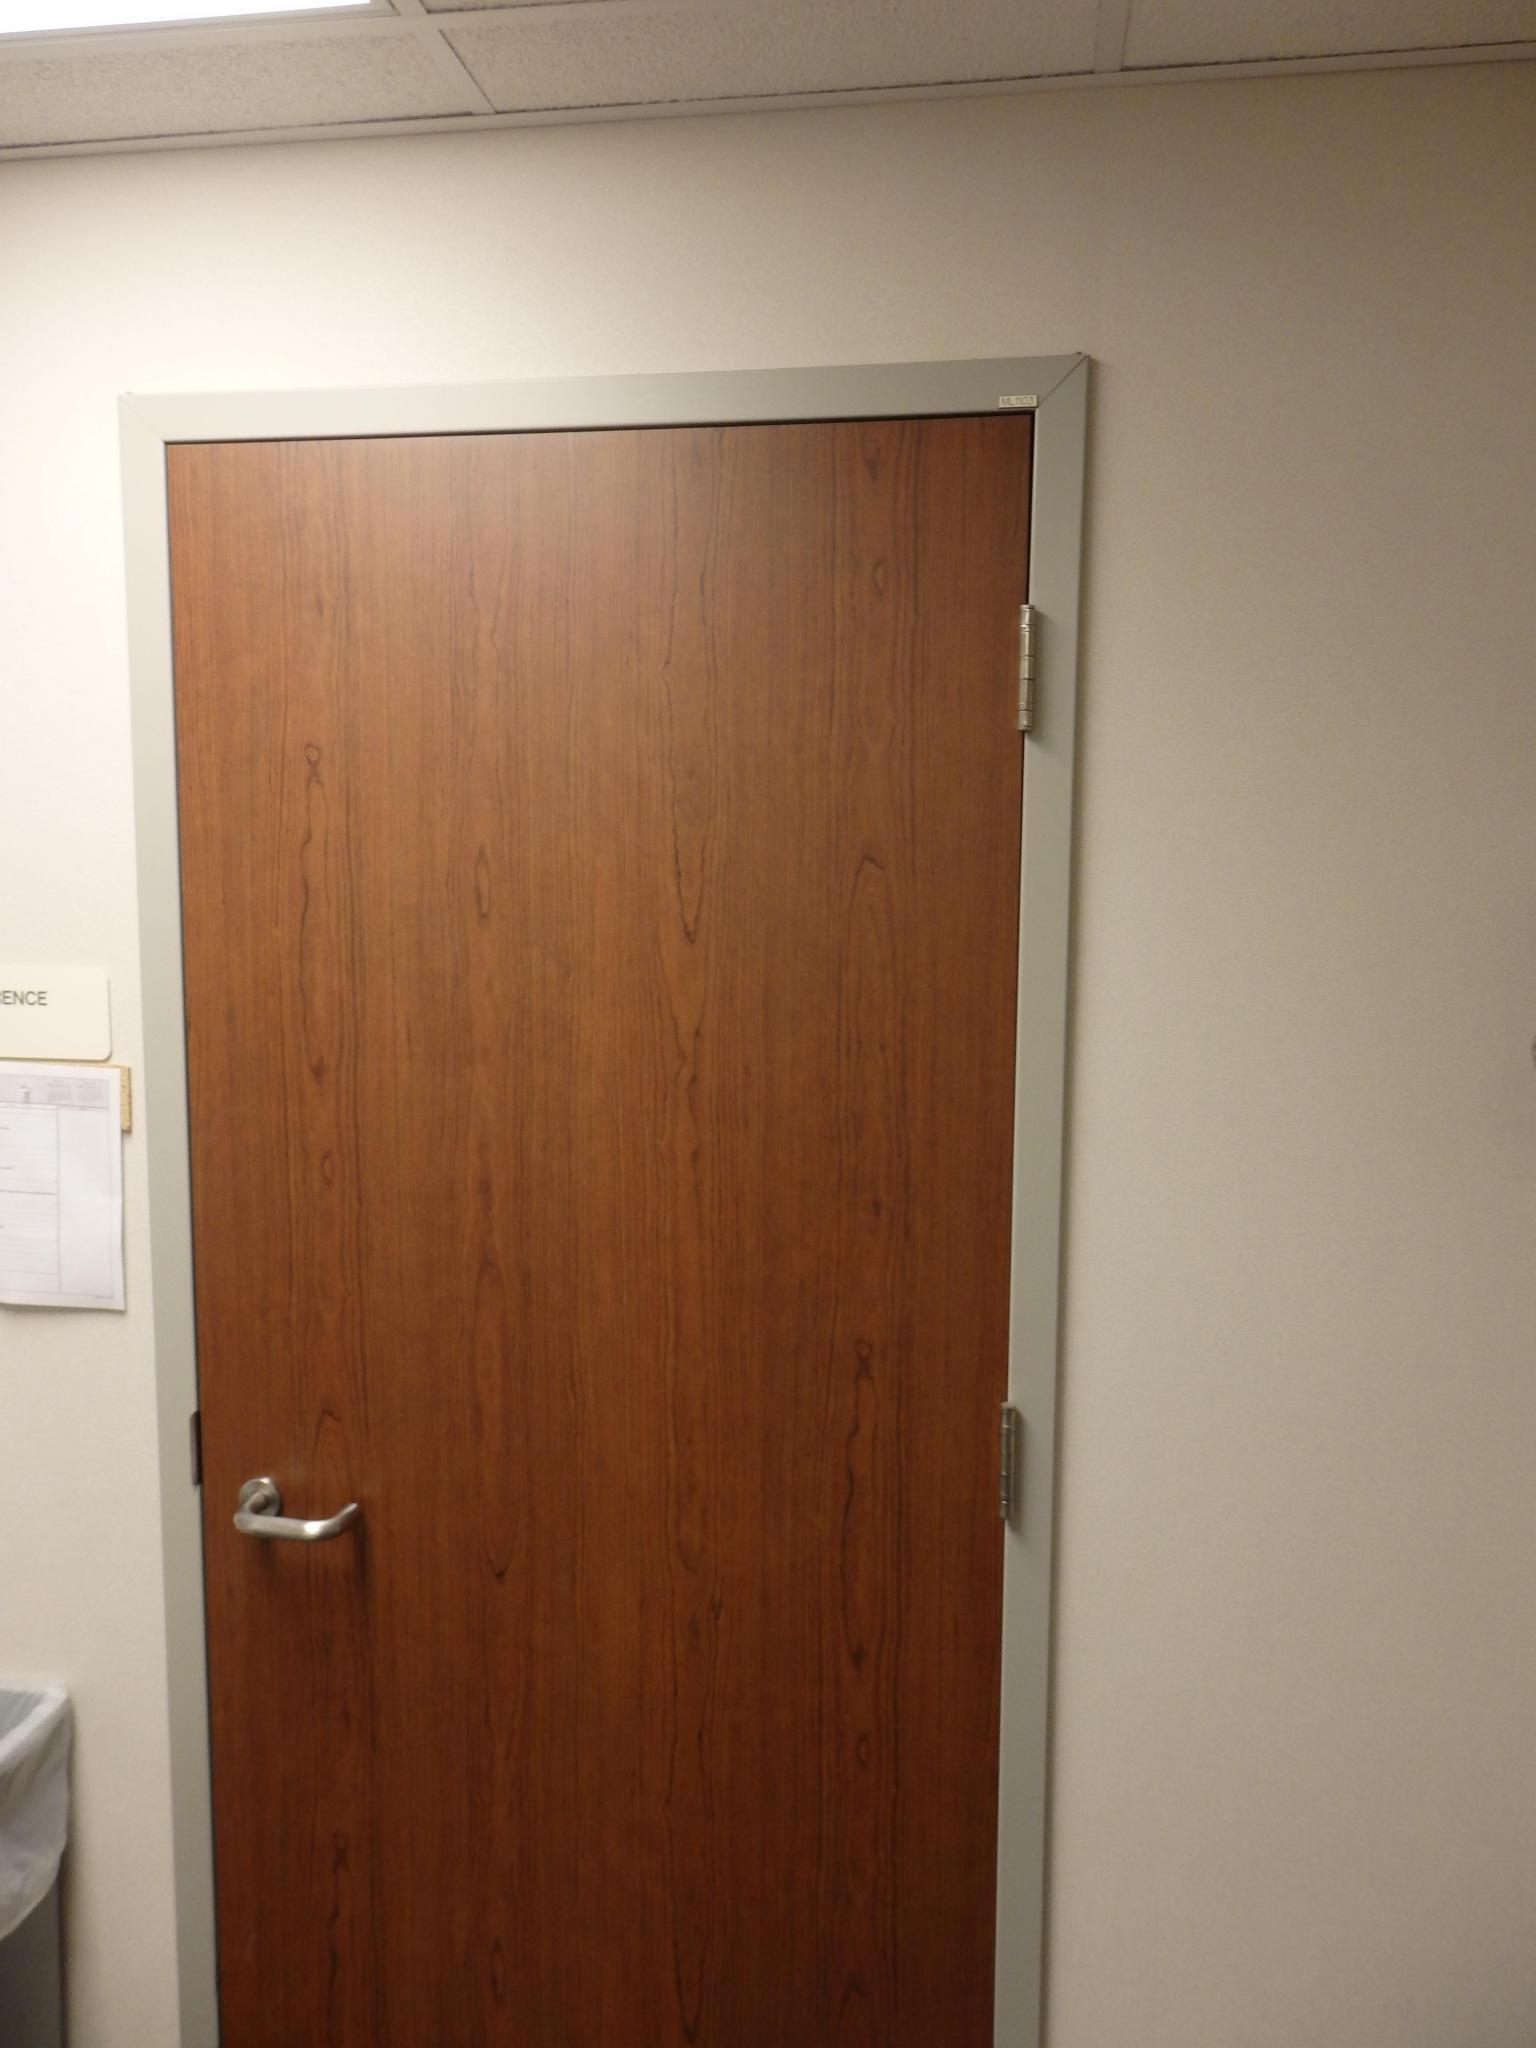door: (186, 453, 994, 1993)
handle: (226, 1445, 374, 1584)
